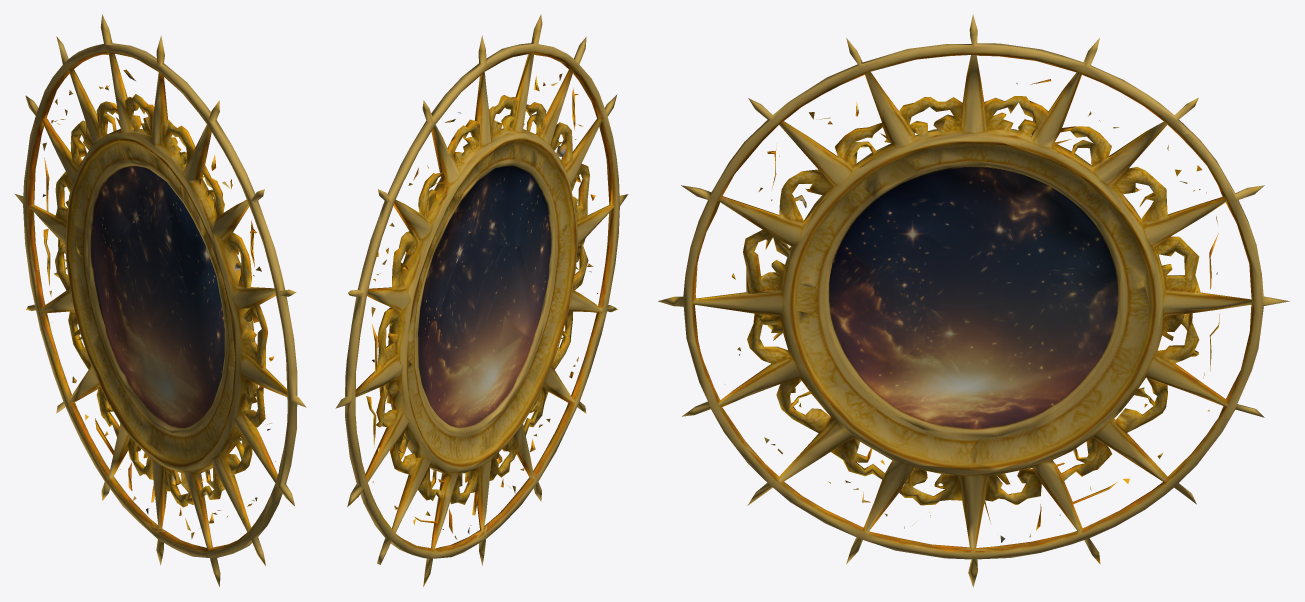
The model's file is mirrorlatest.fbx.
3 views of the same model, side by side, from view 1: azimuth 30°, elevation 25°; view 2: azimuth 150°, elevation 25°; view 3: azimuth 270°, elevation 25° (orthographic). The views are drawn at different scales.
Visible parts, largest first — view 1: tripo_node_e5f06f2b; view 2: tripo_node_e5f06f2b; view 3: tripo_node_e5f06f2b.
Boxes of the visible parts, bbox=[...] form: tripo_node_e5f06f2b: bbox=[14, 14, 306, 586]; tripo_node_e5f06f2b: bbox=[335, 14, 628, 586]; tripo_node_e5f06f2b: bbox=[658, 14, 1289, 587].
Bounding box in the file's own units: 9.82 × 245 × 245.
1 material, 1 textured.
